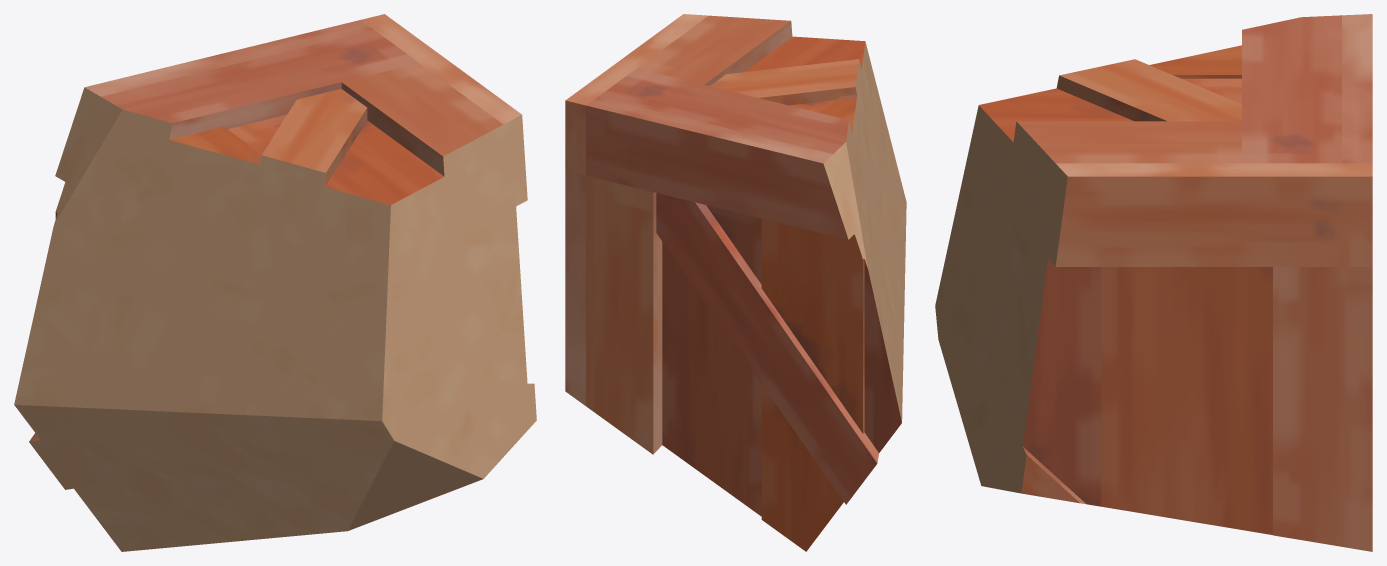
File: crate_s01.fbx
3 renders of one model, left to right at view 1: azimuth 30°, elevation 25°; view 2: azimuth 150°, elevation 25°; view 3: azimuth 270°, elevation 25°, orthographic. The views are drawn at different scales.
Parts seen in each view (by area): view 1: crate_s01; view 2: crate_s01; view 3: crate_s01.
Part boxes in pixels (x1,y1,x2,y2): crate_s01: (14,14,536,551); crate_s01: (565,14,906,551); crate_s01: (935,14,1372,551).
Size of the model in its own units: 2.05 by 2.39 by 1.84.
